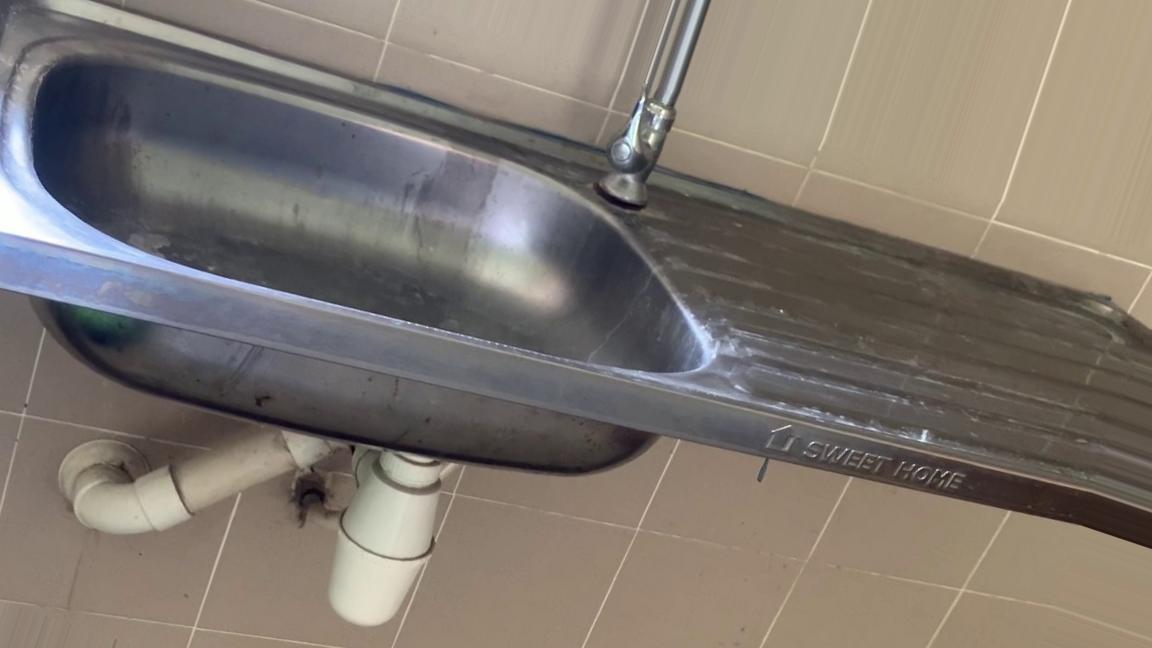Lavaplatos: (0, 0, 879, 488)
